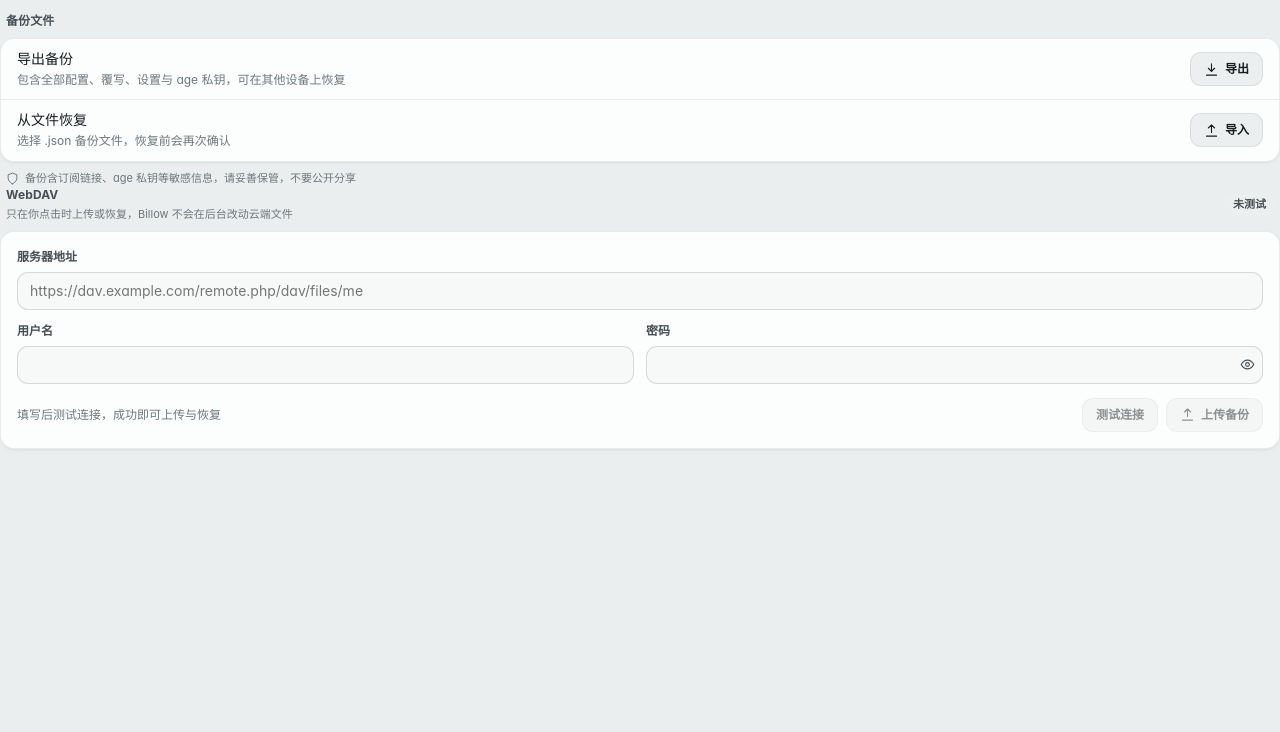
Test: BackupSection › toggles WebDAV password visibility and collapses verified credentials into a summary bar
This screenshot has width=1280, height=732.
Click the button named "显示密码" at (1247, 365), box [1236,354,1258,376]
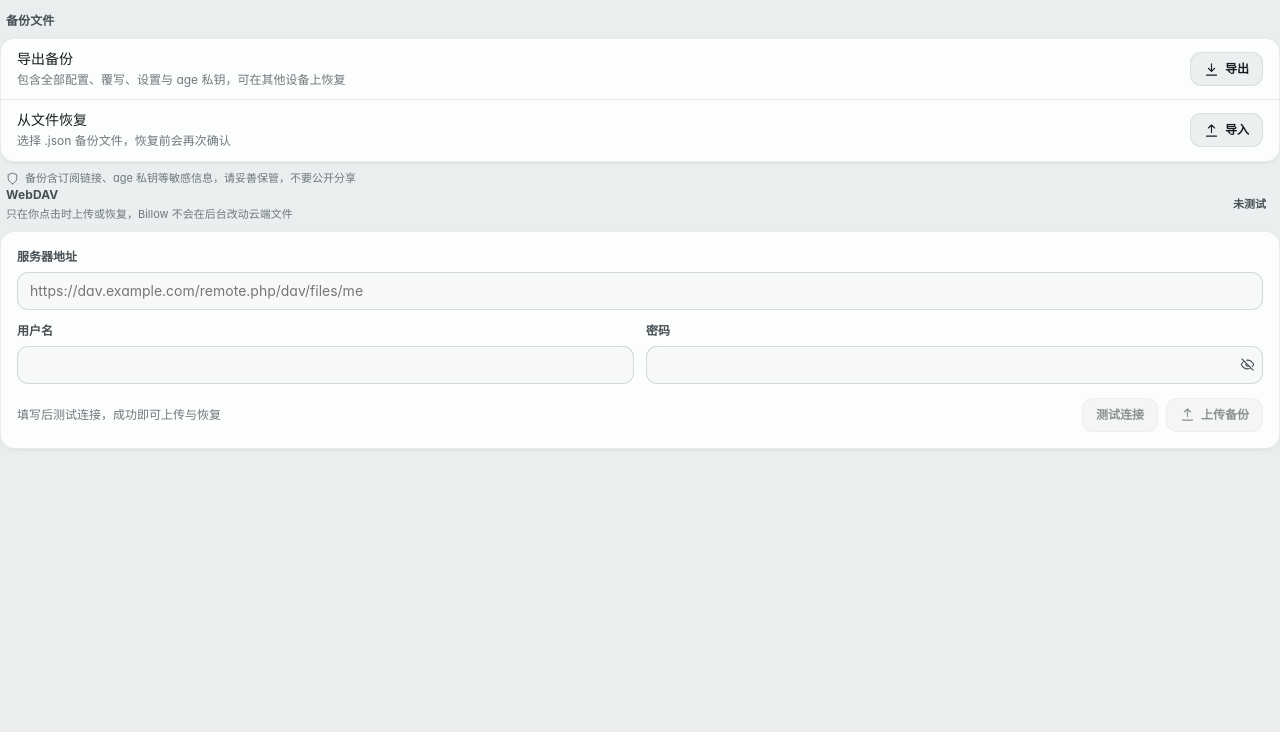
Click the button named "隐藏密码" at (1247, 365), box [1236,354,1258,376]
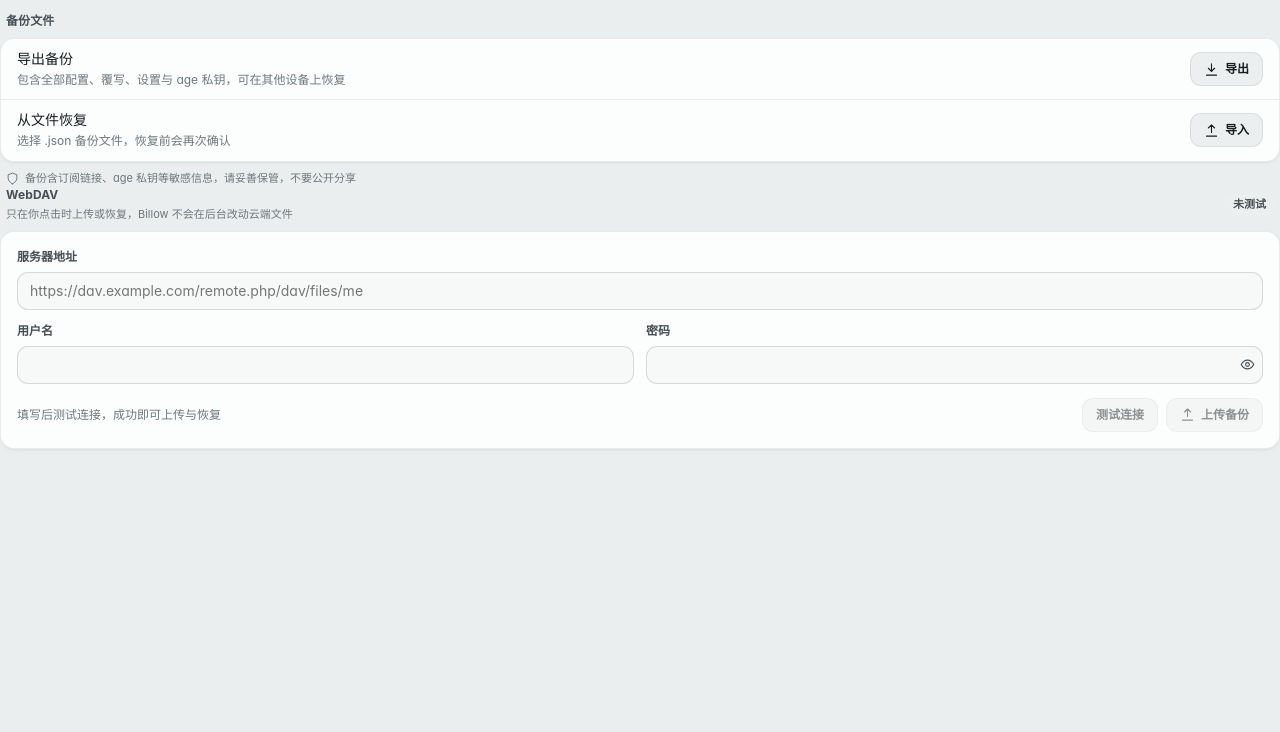
Type "https://dav.example.com/dav/" into the field with test id "webdav-url" at (640, 291), box [17,272,1263,310]
Type "Billow" into the field labelled "用户名" at (326, 365), box [17,346,634,384]
Type "secret" into the password field with test id "webdav-password" at (954, 365), box [646,346,1263,384]
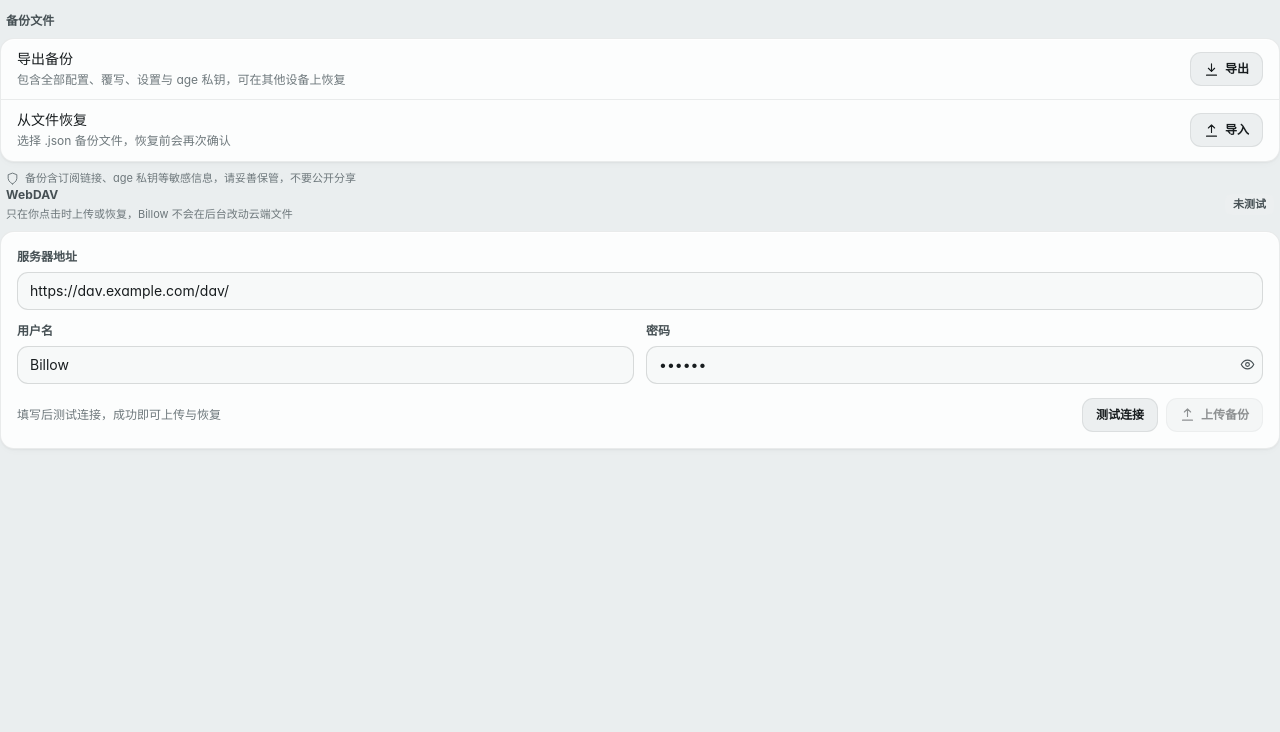
Click the button "测试连接" at (1120, 415), box [1082,398,1158,432]
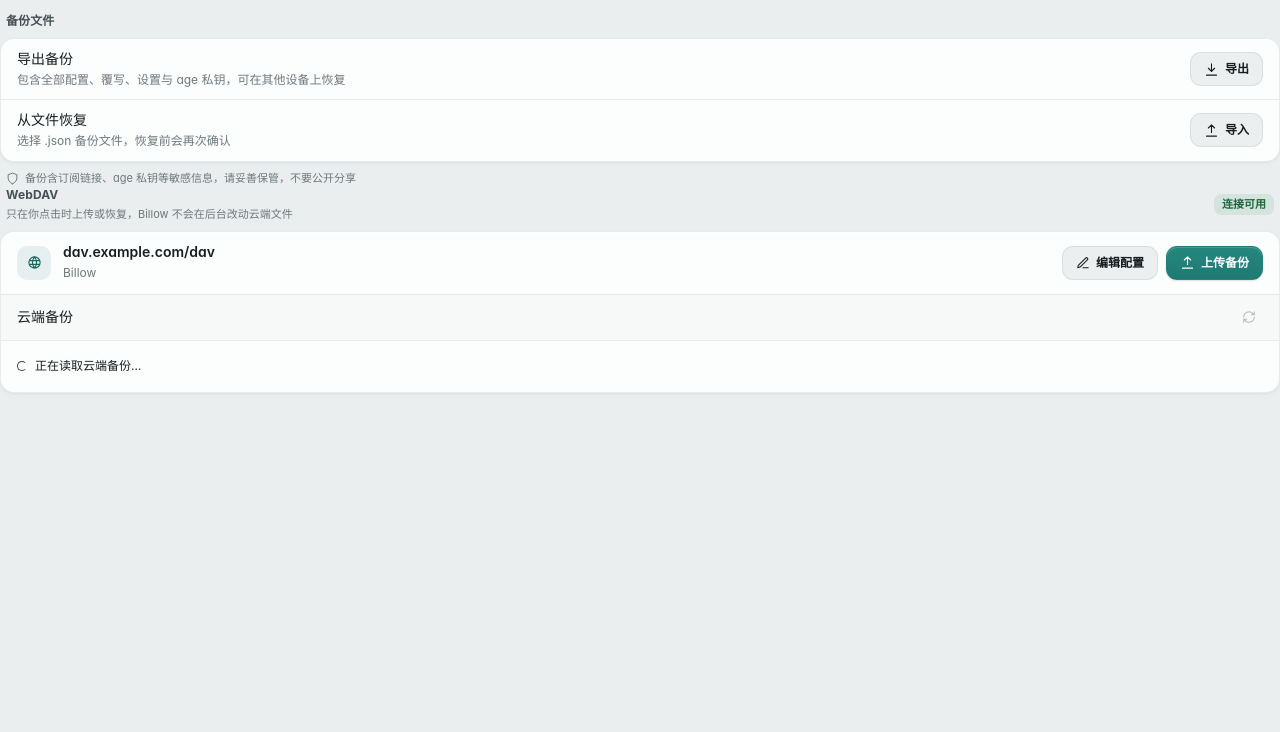
Result: the element with test id "webdav-summary" is shown at [17,243,1263,280]
Result: the element with test id "webdav-summary" shows "dav.example.com/dav" at [63,243,215,260]
Result: the element with test id "webdav-summary" shows "Billow" at [63,265,96,280]
Click the button "编辑配置" at (1110, 263), box [1062,246,1158,280]
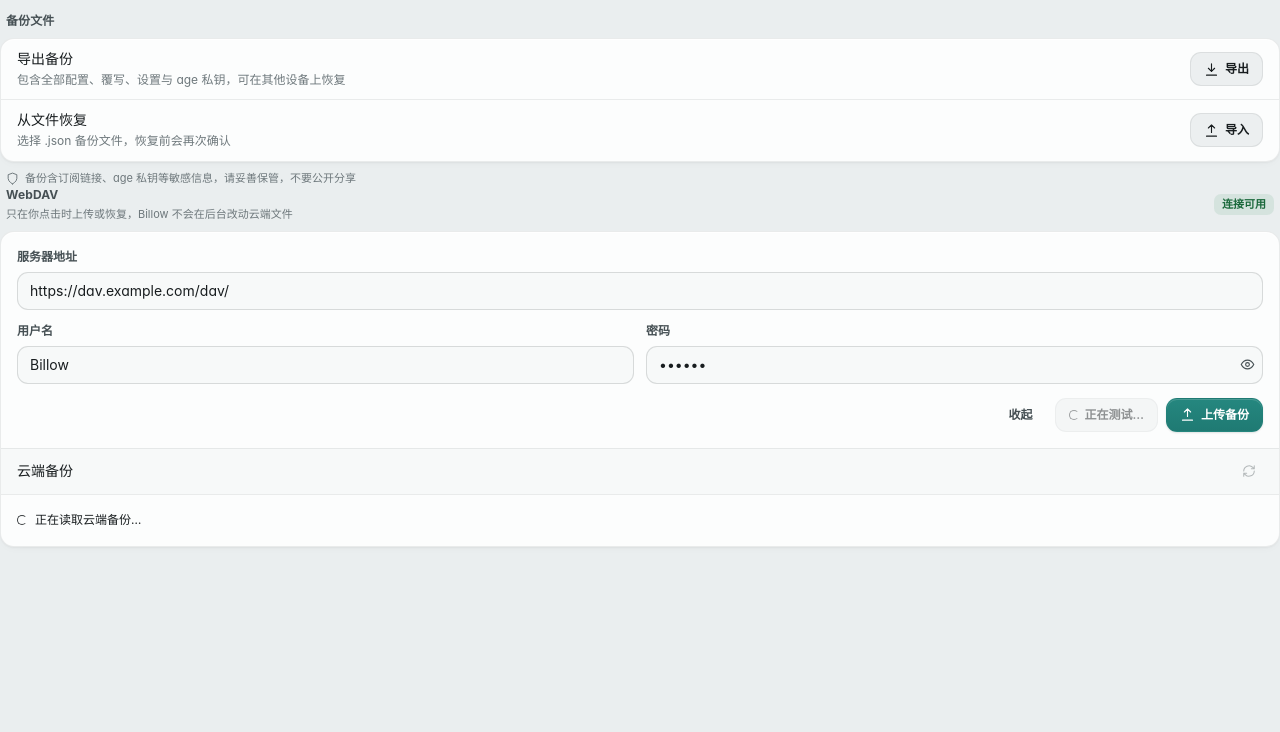
Result: the field with test id "webdav-url" is shown at [17,272,1263,310]
Click the button "收起" at (1020, 415), box [994,398,1046,432]
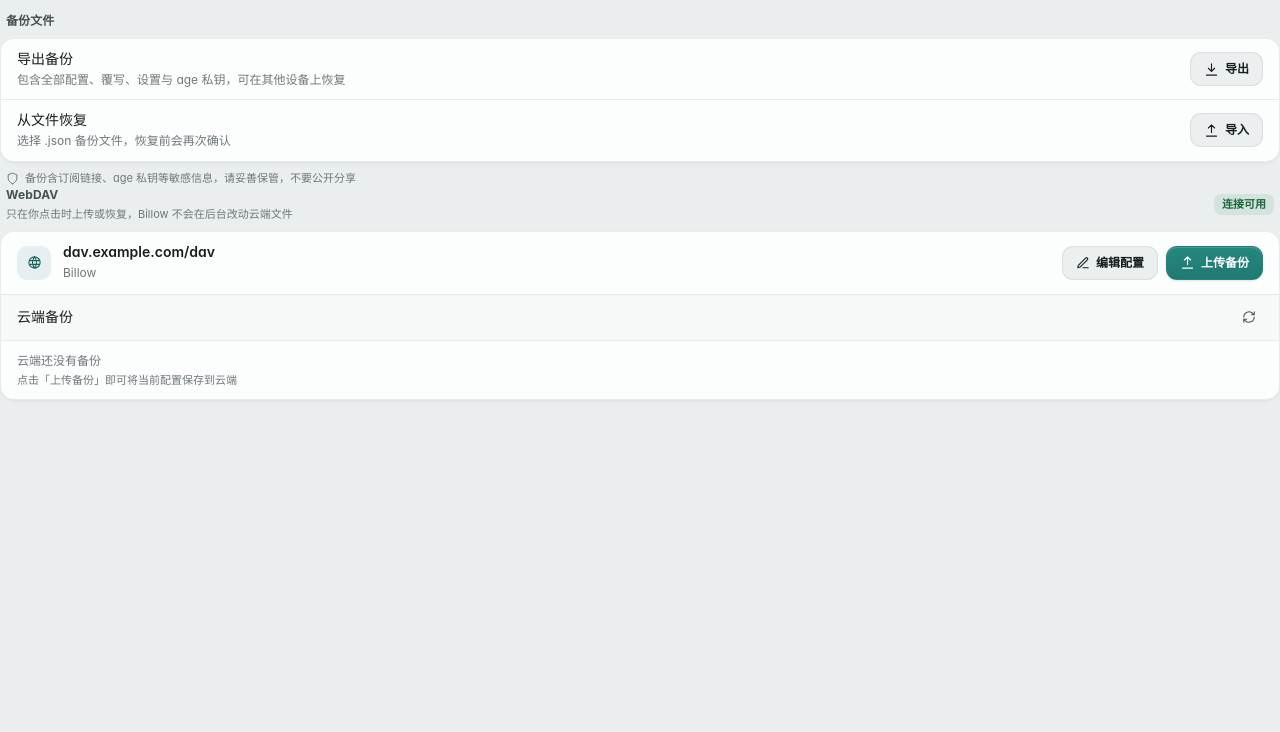
Result: the element with test id "webdav-summary" is shown at [17,243,1263,280]
